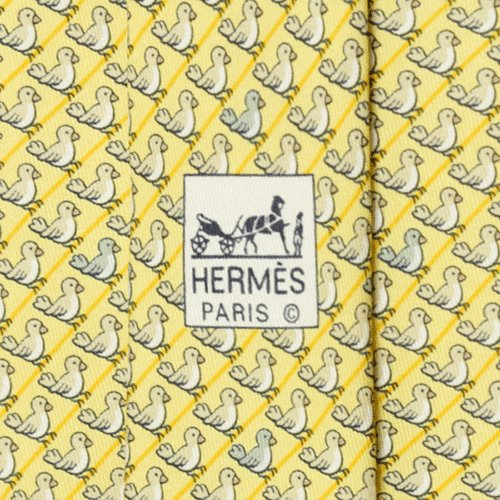HERMES: (182, 179, 317, 329)
